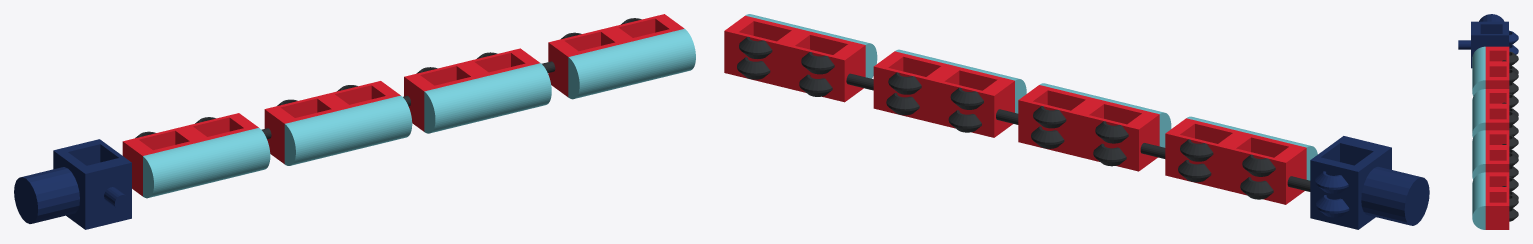
File: tinker.obj
3 renders of one model, left to right at view 1: azimuth 30°, elevation 25°; view 2: azimuth 150°, elevation 25°; view 3: azimuth 270°, elevation 25°, orthographic. The views are drawn at different scales.
Visible parts, largest first — view 1: group_0_7720667, group_0_15277357, group_0_1650274, group_0_2829873; view 2: group_0_15277357, group_0_2829873, group_0_1650274, group_0_7720667; view 3: group_0_15277357, group_0_7720667, group_0_1650274, group_0_2829873.
Part boxes in pixels (left/top/right/bottom): group_0_7720667: left=143, top=28, right=695, bottom=198; group_0_15277357: left=122, top=14, right=684, bottom=196; group_0_1650274: left=14, top=139, right=131, bottom=229; group_0_2829873: left=135, top=18, right=641, bottom=139; group_0_15277357: left=724, top=15, right=1306, bottom=204; group_0_2829873: left=737, top=36, right=1310, bottom=199; group_0_1650274: left=1310, top=136, right=1429, bottom=229; group_0_7720667: left=745, top=14, right=1317, bottom=180; group_0_15277357: left=1485, top=46, right=1509, bottom=229; group_0_7720667: left=1472, top=46, right=1485, bottom=229; group_0_1650274: left=1458, top=14, right=1518, bottom=68; group_0_2829873: left=1502, top=51, right=1518, bottom=221.
Bounding box in the file's own units: 281 × 23 × 38.
